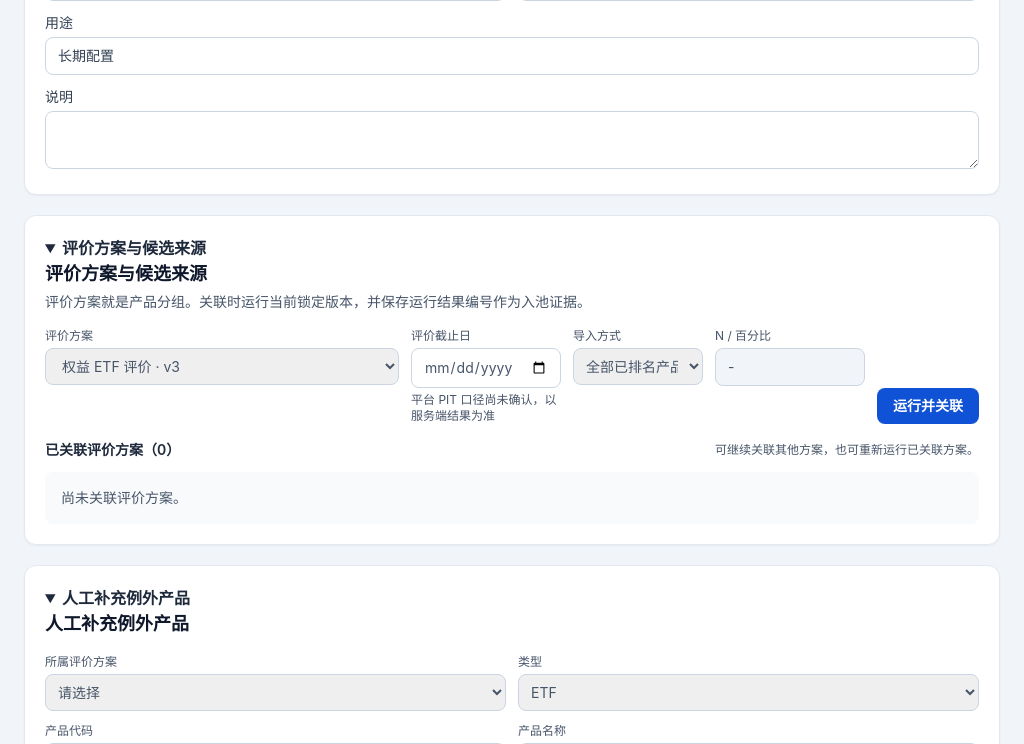
Scenario: ProductPools › shows a dash when all ranked products are selected
This screenshot has width=1024, height=744.
(page scrolled)
Check: the field labelled "N / 百分比" holds "-", box [715,348,865,386]
Check: the field labelled "N / 百分比" is disabled, box [715,348,865,386]
Select "排名前 N" in the dropdown labelled "导入方式": coordinates (638, 366) [573,348,703,385]
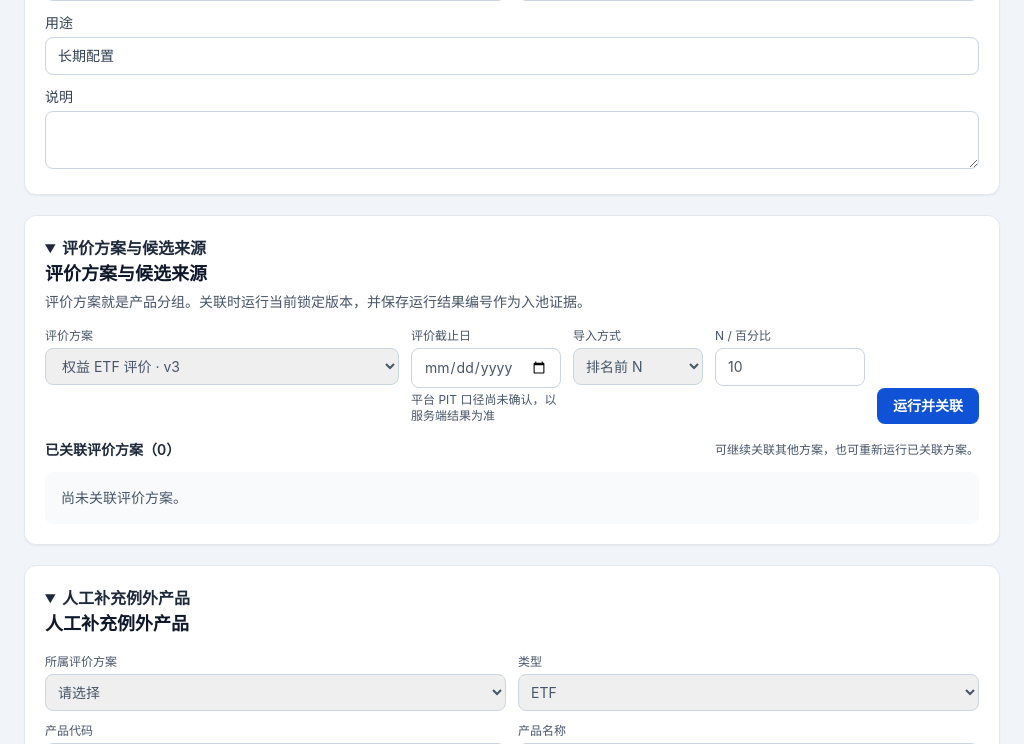
Check: the number field labelled "N / 百分比" holds "10", box [715,348,865,386]
Check: the number field labelled "N / 百分比" is enabled, box [715,348,865,386]
